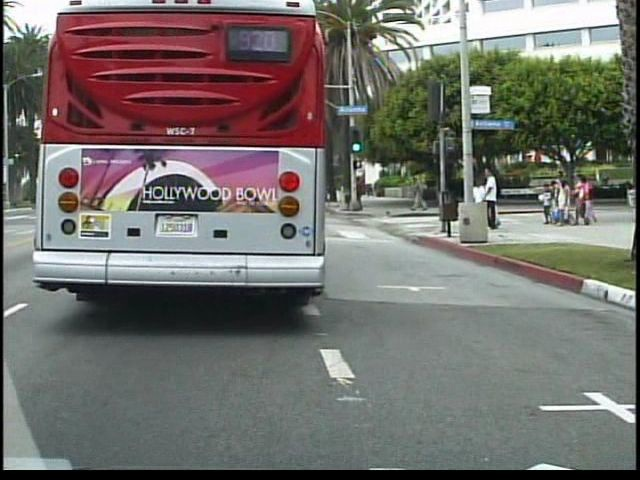person: (488, 163, 506, 233), (470, 173, 491, 224), (411, 172, 429, 214)
